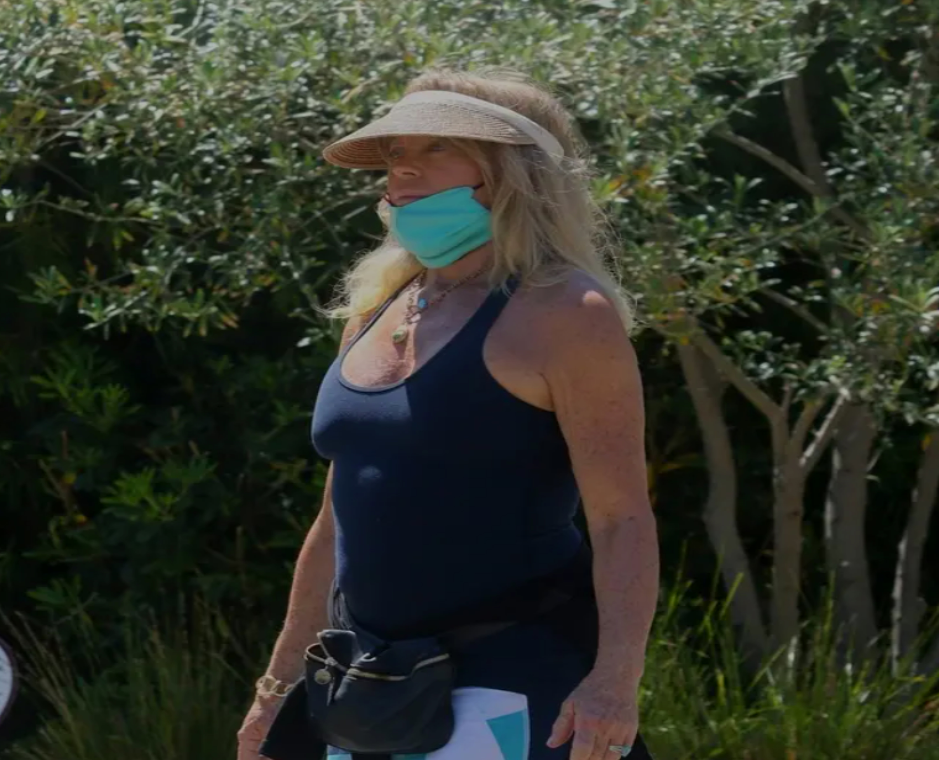mask_weared_incorrect: (335, 72, 577, 275)
